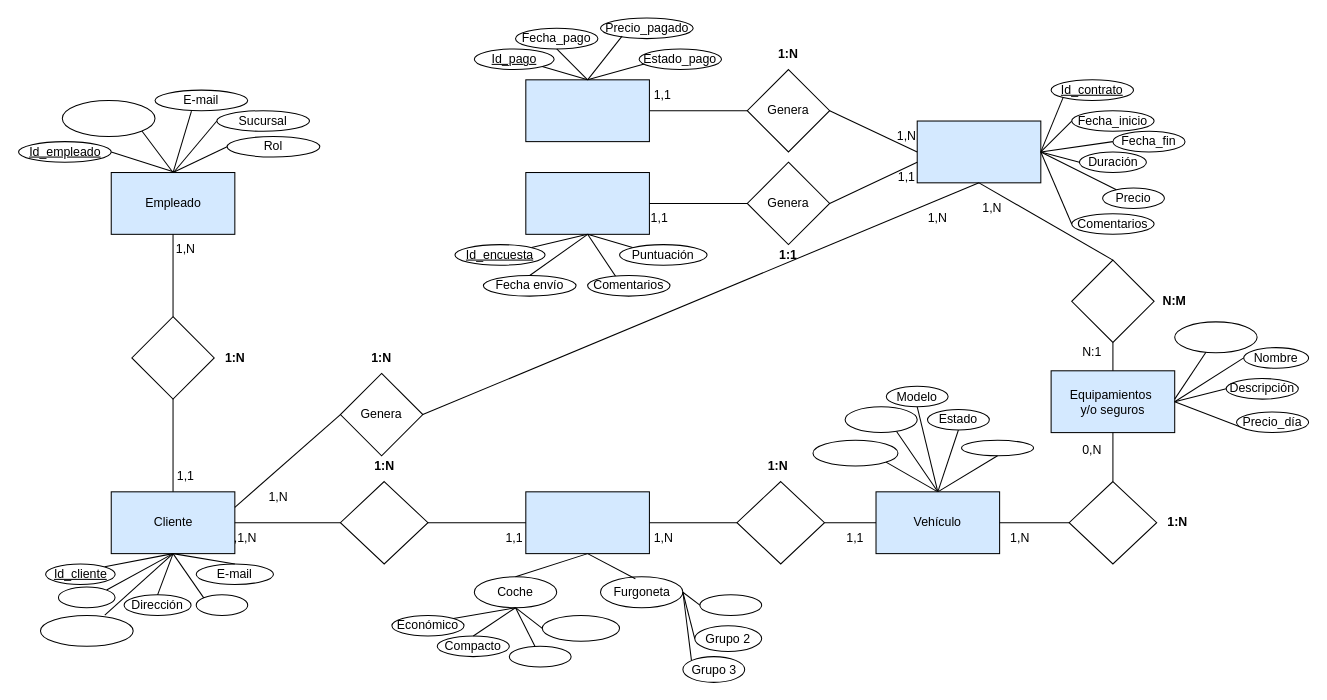
The diagram is 1327 pixels wide and 700 high, and some of its shapes have lost their labels. The shapes that lost their labels are listed below. From the top down, each one's box as (x1, y1, x2, y2) in pixels, then its label:
(61, 99, 155, 136): Nombre completo
(525, 79, 649, 142): Pago
(916, 120, 1041, 183): Contrato
(525, 171, 649, 234): Encuesta
(1071, 259, 1154, 342): Se añade
(1174, 321, 1257, 353): Id_producto
(131, 316, 214, 399): Atiende
(844, 406, 917, 433): Matrícula
(812, 439, 898, 466): Id_vehículo
(960, 439, 1034, 456): Precio día
(339, 480, 428, 564): Elige
(525, 491, 649, 554): Tipo Vehículo
(736, 480, 825, 564): Puede ser
(1068, 480, 1157, 564): Añade
(57, 586, 115, 608): Dni
(195, 594, 248, 615): Teléfono
(699, 594, 762, 615): Grupo 1
(39, 614, 133, 646): NombreApellidos
(541, 614, 620, 641): Monvolumen
(508, 645, 571, 667): SUV
